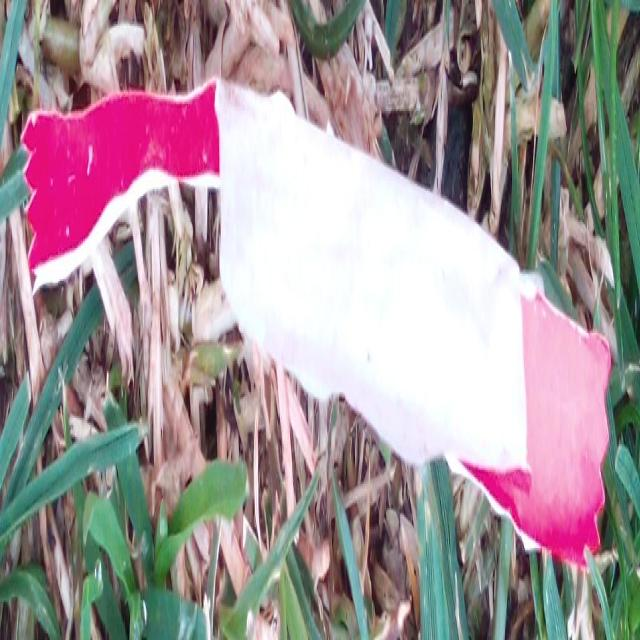litter: (19, 78, 611, 579)
